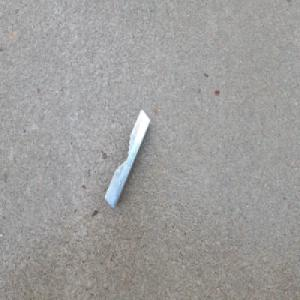ClampPart: (103, 107, 151, 211)
